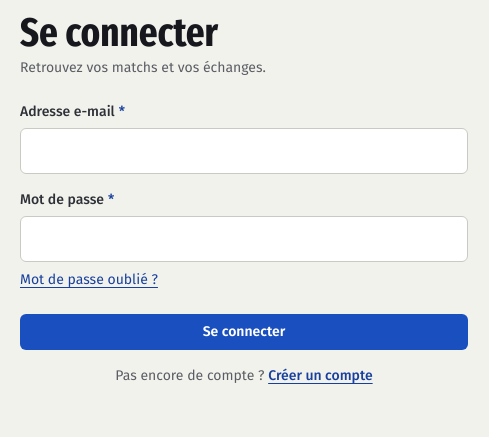
Test: page de connexion › affiche un message clair quand le serveur est injoignable
This screenshot has width=489, height=437.
Type "ada@example.org" into the field labelled "Adresse e-mail*" at coordinates (244, 151), box [20, 128, 468, 174]
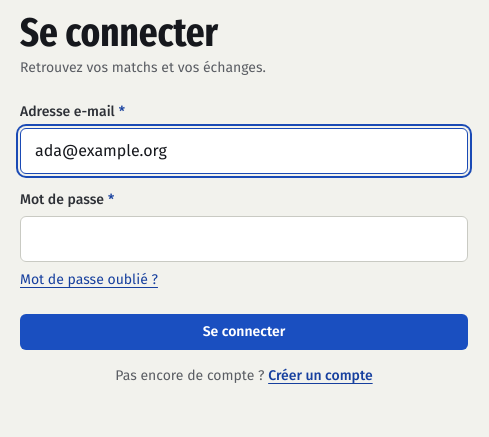
Type "mot-de-passe-solide-2026" into the password field labelled "Mot de passe*" at coordinates (244, 239), box [20, 216, 468, 262]
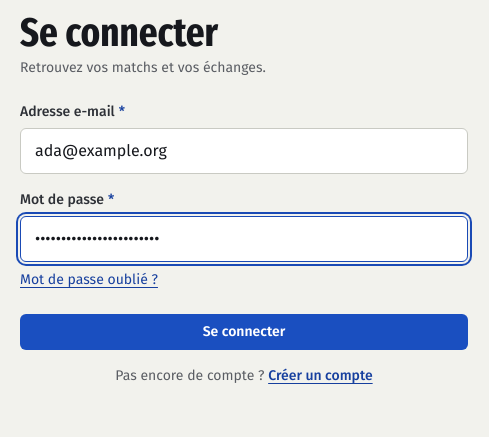
Click the button "Se connecter" at coordinates (244, 332), box [20, 314, 468, 350]
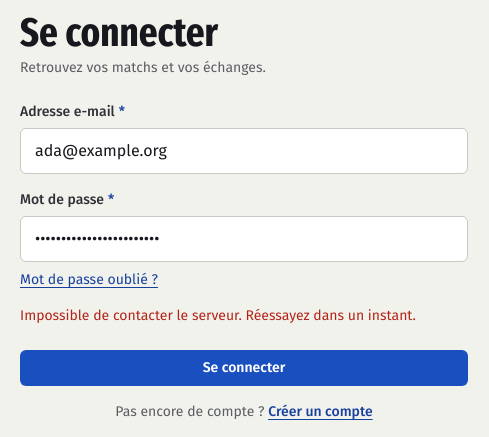
Now the message shows "Impossible de contacter le serveur", box [20, 307, 416, 324]
